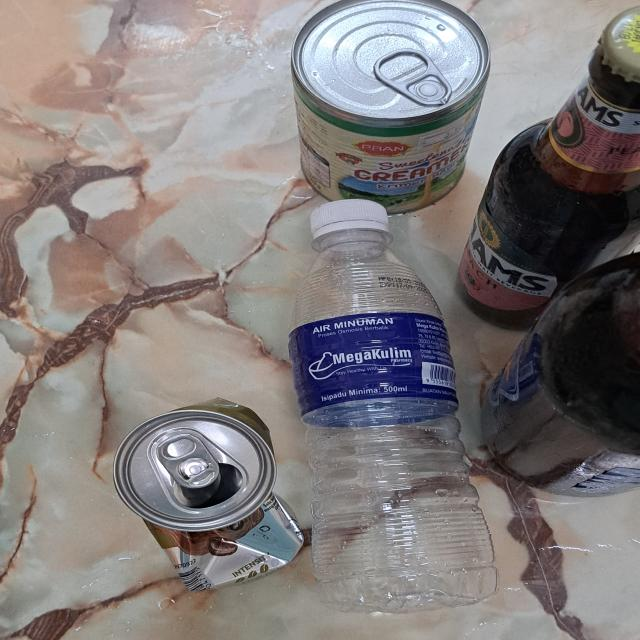can: (292, 0, 491, 213), (114, 399, 308, 589)
glass bottle: (456, 7, 640, 328), (484, 251, 640, 497)
plastic bottle: (289, 197, 498, 612)
plastic bottle cap: (306, 200, 390, 241)
pop tab: (375, 48, 455, 110), (150, 428, 222, 491)
